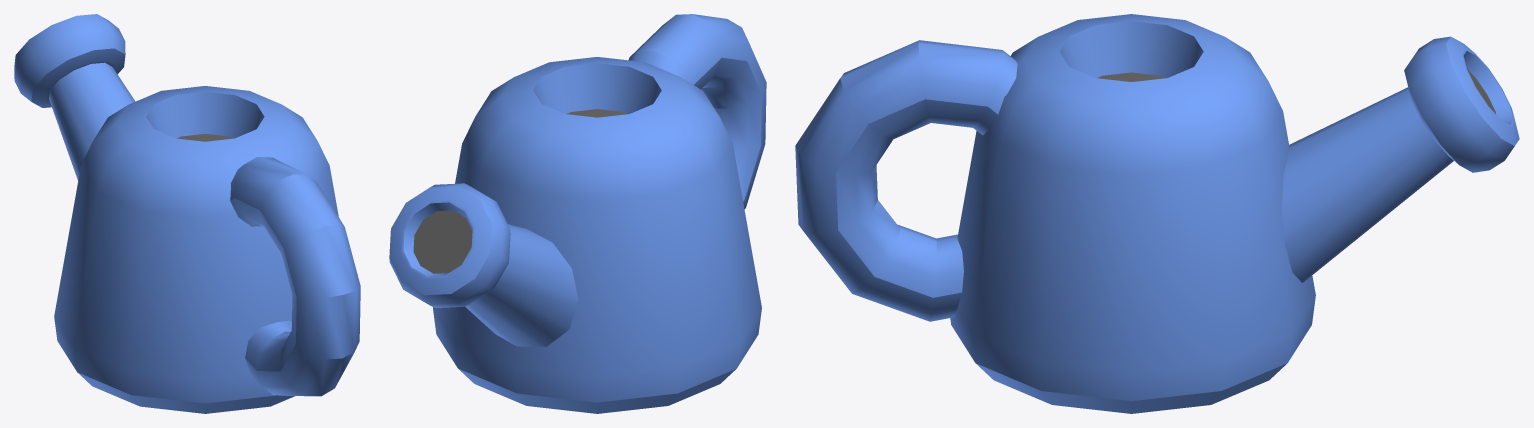
Rendered from WateringCan.fbx.
3 views of the same model, side by side, from view 1: azimuth 30°, elevation 25°; view 2: azimuth 150°, elevation 25°; view 3: azimuth 270°, elevation 25° (orthographic). The views are drawn at different scales.
Parts seen in each view (by area): view 1: WateringCan; view 2: WateringCan; view 3: WateringCan.
Boxes of the visible parts, box(x1,y1,x2,y2) form: WateringCan: box(14, 14, 360, 413); WateringCan: box(389, 14, 766, 413); WateringCan: box(795, 14, 1519, 413).
Bounding box in the file's own units: 60.97 × 56.75 × 120.
